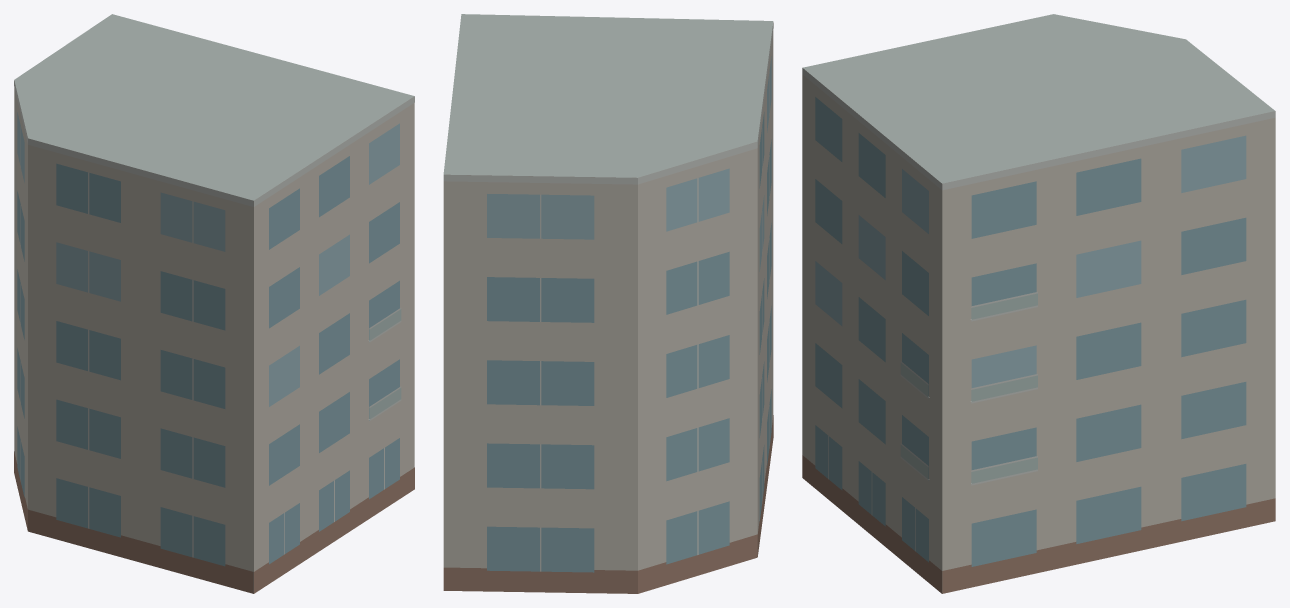
Rendered from survey-upis-32966396.glb.
The picture shows the model from 3 angles, left to right: view 1: azimuth 30°, elevation 25°; view 2: azimuth 150°, elevation 25°; view 3: azimuth 270°, elevation 25°; orthographic projection. The views are drawn at different scales.
Visible parts, largest first — view 1: survey-upis-32966396.tmp; view 2: survey-upis-32966396.tmp; view 3: survey-upis-32966396.tmp.
Boxes of the visible parts, <box> form: survey-upis-32966396.tmp: <box>14,14,414,593</box>; survey-upis-32966396.tmp: <box>443,14,773,593</box>; survey-upis-32966396.tmp: <box>802,14,1275,593</box>.
Size of the model in its own units: 13.34 by 15.02 by 15.71.
